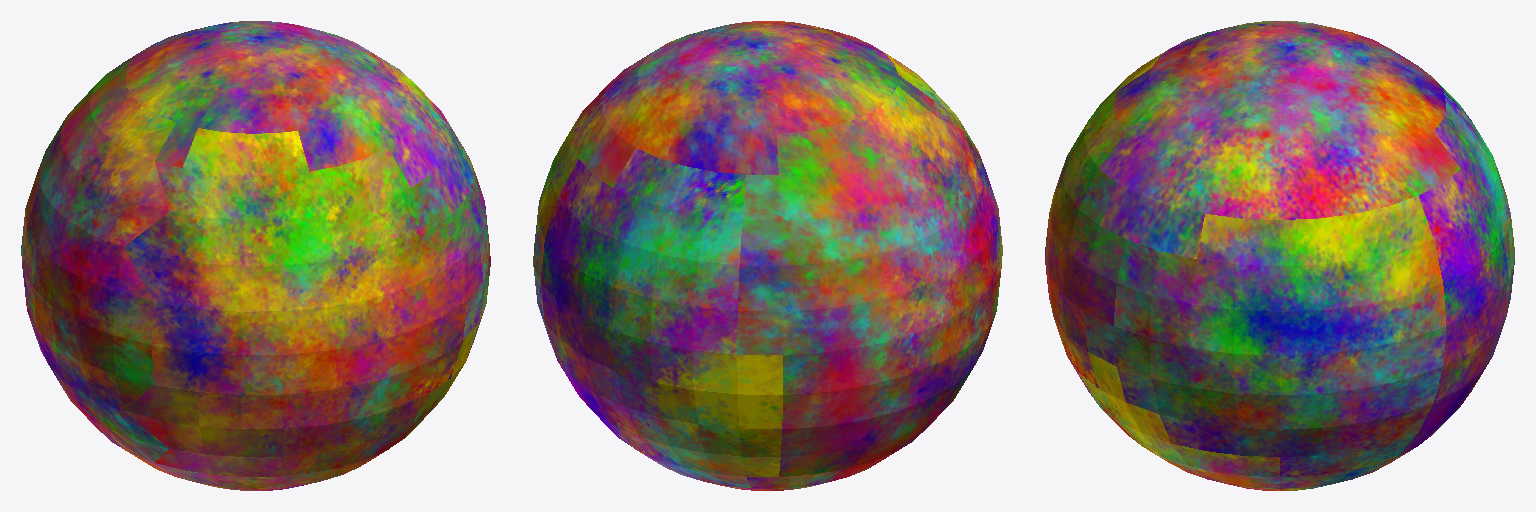
3 views of the same model, side by side, from view 1: azimuth 30°, elevation 25°; view 2: azimuth 150°, elevation 25°; view 3: azimuth 270°, elevation 25° (orthographic).
Visible parts, largest first — view 1: 球; view 2: 球; view 3: 球.
Part boxes in pixels (x1,y1,x2,y2): 球: (21,21,490,490); 球: (533,21,1002,490); 球: (1045,21,1514,490).
Size of the model in its own units: 2 by 2 by 2.
Materials: 1 (1 with a texture image).